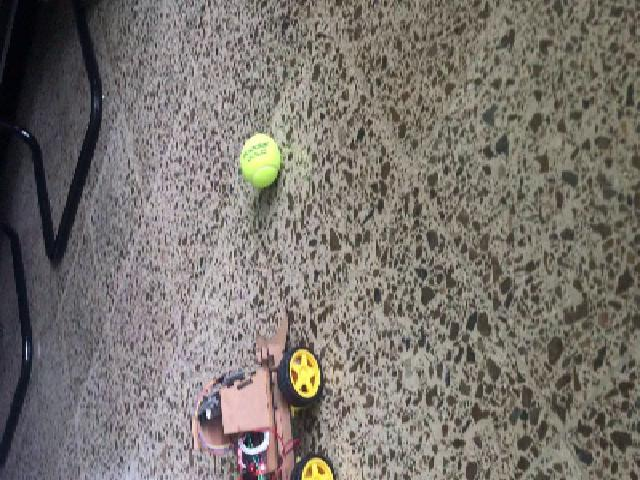Ball: (237, 133, 280, 188)
Robot: (192, 307, 334, 479)
